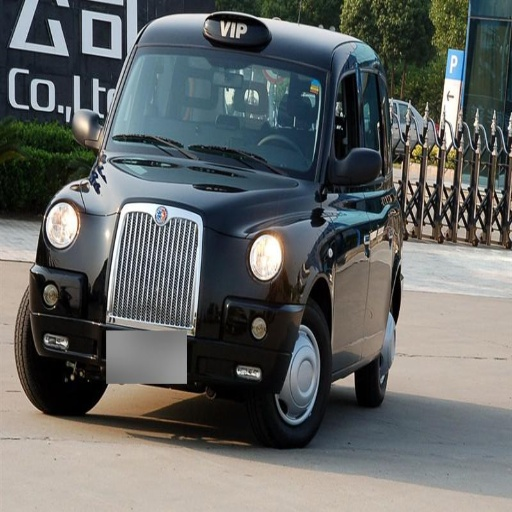back_glass: (244, 135, 304, 169)
front_bumper: (139, 274, 302, 392), (25, 248, 113, 363)
front_glass: (111, 37, 326, 163)
front_left_door: (323, 63, 372, 354)
